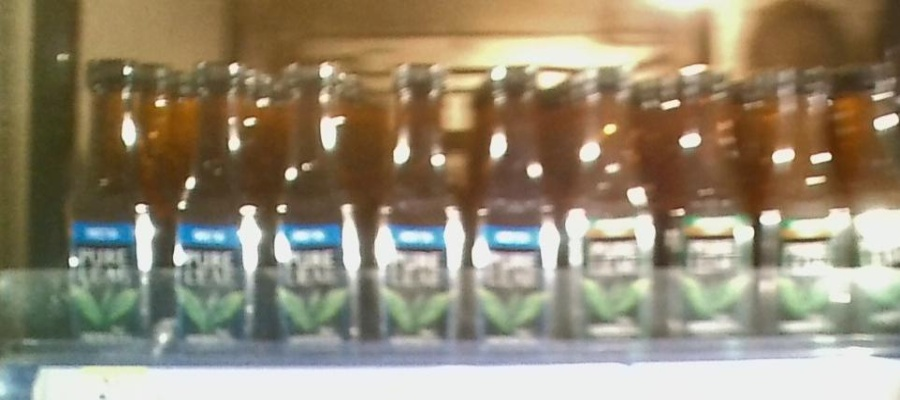bottle: (62, 53, 165, 351), (169, 58, 268, 356), (270, 59, 368, 351), (565, 59, 661, 356), (371, 58, 467, 353), (663, 59, 756, 358), (473, 60, 561, 356), (759, 60, 848, 346), (851, 55, 899, 347)
